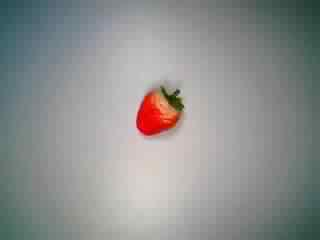strawberry: (125, 80, 190, 147)
